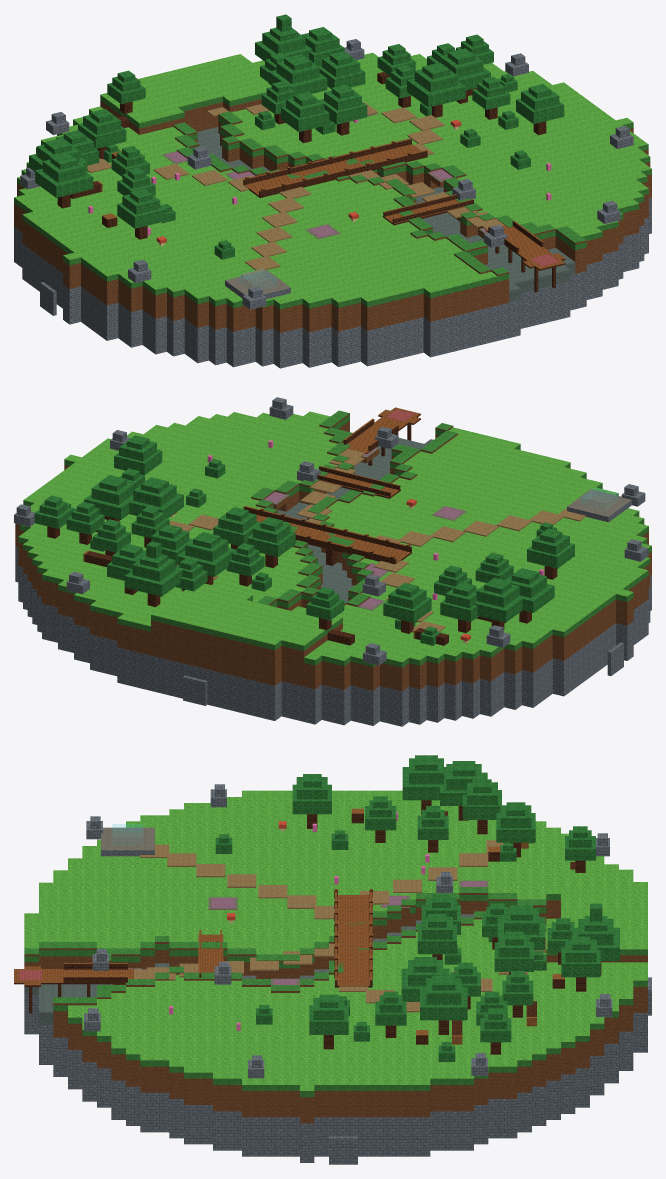
The model's file is Riverbend_Island_Voxel_NoWater.glb.
The picture shows the model from 3 angles, top to bottom: view 1: azimuth 30°, elevation 25°; view 2: azimuth 150°, elevation 25°; view 3: azimuth 270°, elevation 25°; orthographic projection. The views are drawn at different scales.
Visible parts, largest first — view 1: IslandGround_LeftGrass, IslandGround_RightGrass, CliffSections_RockBase, CliffSections_SoilBand, CliffSections_RiverBanks, IslandGround_SourceGrass, Paths_Main, Riverbed_Main, Bridge_Rails, PineTree_18_Foliage, PineTree_08_Foliage, Bridge_Deck (+25 smaller); view 2: IslandGround_LeftGrass, IslandGround_RightGrass, CliffSections_RockBase, CliffSections_SoilBand, IslandGround_SourceGrass, CliffSections_RiverBanks, Paths_Main, Riverbed_Main, CliffSections_SourceShelf, Bridge_Rails, PineTree_15_Foliage, PineTree_09_Foliage (+27 smaller); view 3: IslandGround_LeftGrass, IslandGround_RightGrass, CliffSections_RockBase, CliffSections_SoilBand, CliffSections_RiverBanks, Paths_Main, IslandGround_SourceGrass, Bridge_Deck, PineTree_17_Foliage, PineTree_08_Foliage, Riverbed_Main, Paths_SpawnPlaza (+28 smaller).
Part boxes in pixels (x1,y1,x2,y2): IslandGround_LeftGrass: (14, 106, 509, 309); IslandGround_RightGrass: (218, 52, 651, 250); CliffSections_RockBase: (14, 198, 651, 368); CliffSections_SoilBand: (14, 116, 651, 332); CliffSections_RiverBanks: (173, 106, 586, 276); IslandGround_SourceGrass: (100, 54, 271, 128); Paths_Main: (87, 102, 504, 275); Riverbed_Main: (197, 127, 575, 302); Bridge_Rails: (243, 138, 427, 197); PineTree_18_Foliage: (407, 62, 465, 107); PineTree_08_Foliage: (35, 153, 93, 197); Bridge_Deck: (243, 144, 427, 197); IslandGround_LeftGrass: (304, 427, 651, 667); IslandGround_RightGrass: (18, 411, 354, 631); CliffSections_RockBase: (15, 546, 651, 726); CliffSections_SoilBand: (15, 421, 651, 691); IslandGround_SourceGrass: (151, 583, 342, 650); CliffSections_RiverBanks: (251, 410, 457, 606); Paths_Main: (169, 448, 586, 632); Riverbed_Main: (278, 438, 433, 602); CliffSections_SourceShelf: (151, 601, 342, 662); Bridge_Rails: (243, 506, 411, 563); PineTree_15_Foliage: (124, 554, 182, 596); PineTree_09_Foliage: (474, 577, 524, 622); IslandGround_LeftGrass: (24, 790, 618, 968); IslandGround_RightGrass: (53, 919, 647, 1097); CliffSections_RockBase: (24, 994, 647, 1162); CliffSections_SoilBand: (24, 901, 647, 1123); CliffSections_RiverBanks: (24, 887, 560, 1005); Paths_Main: (134, 840, 546, 1012); IslandGround_SourceGrass: (546, 869, 647, 955); Bridge_Deck: (335, 895, 372, 987); PineTree_17_Foliage: (420, 975, 467, 1020); PineTree_08_Foliage: (402, 755, 446, 800); Riverbed_Main: (24, 914, 473, 1025); Paths_SpawnPlaza: (101, 827, 154, 856).
Size of the model in its own units: 354 by 74 by 308.
Materials: 16 (16 with a texture image).
